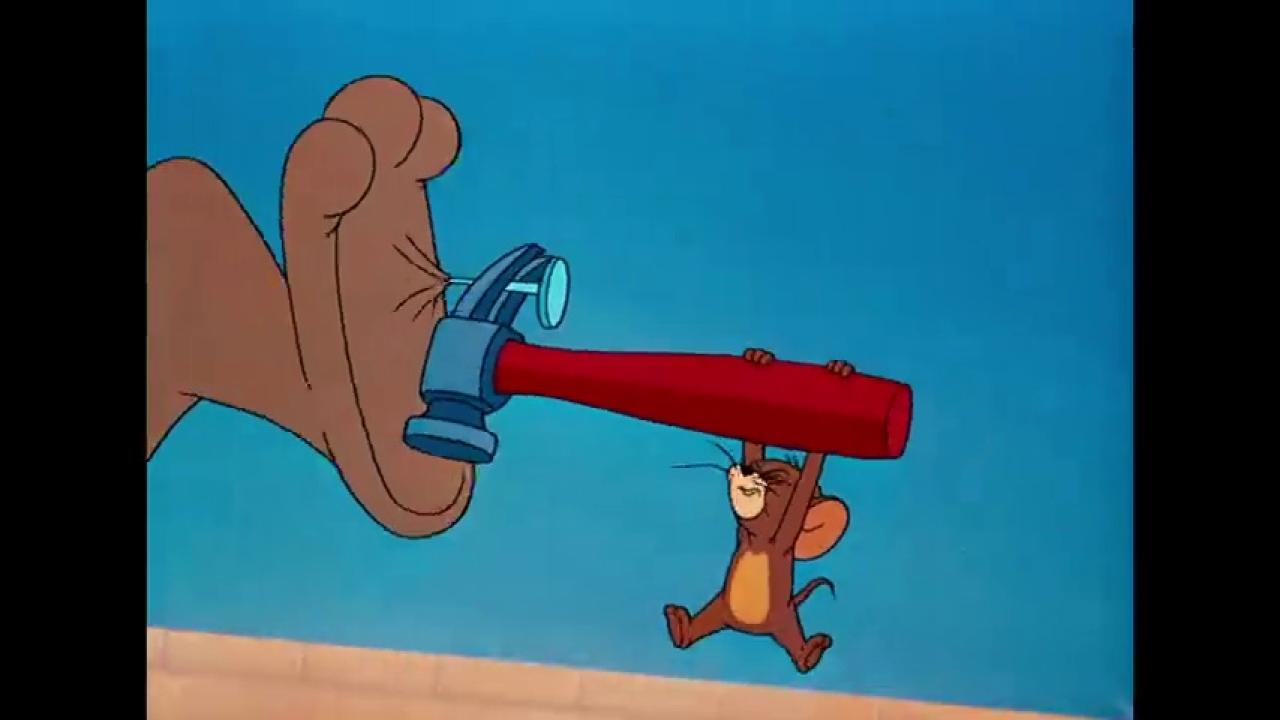Jerry: (662, 345, 858, 675)
